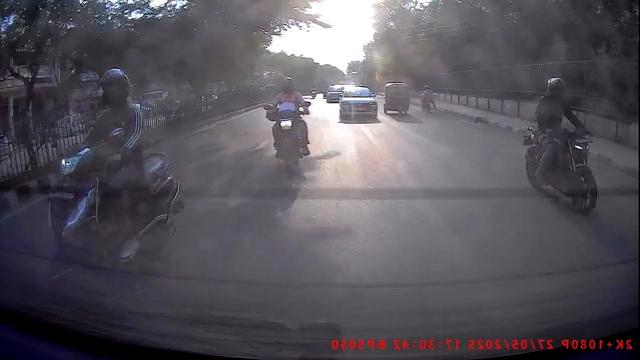motorcycle_with_helmet: (45, 65, 184, 297), (522, 74, 600, 215), (264, 74, 312, 171)
